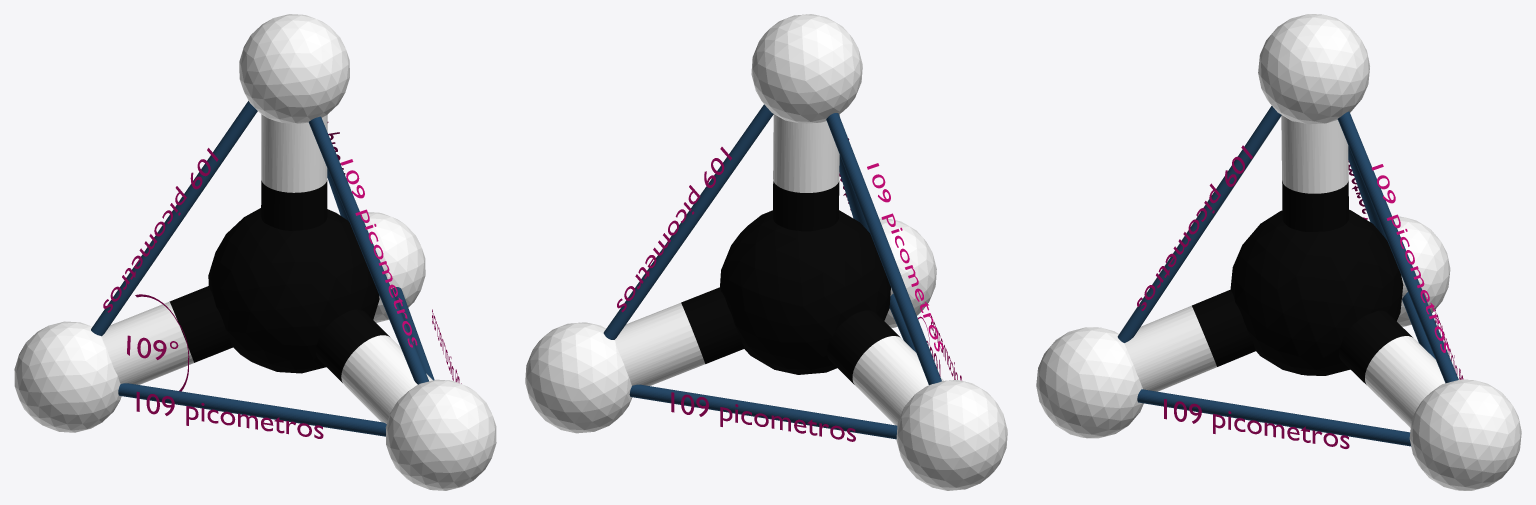
Rendered from metano.obj.
The picture shows the model from 3 angles, left to right: view 1: azimuth 30°, elevation 25°; view 2: azimuth 150°, elevation 25°; view 3: azimuth 270°, elevation 25°; orthographic projection.
Visible parts, largest first — view 1: Shape_IndexedFaceSet.002_Shape_IndexedFaceSet.323, Shape_IndexedFaceSet.012_Shape_IndexedFaceSet.324, Cylinder.003_Cylinder.108, Cylinder.005_Cylinder.110, Cylinder.002_Cylinder.107, Text_109_pM, Text.003_109_pM.003, Text.005_109_pM.005, Cylinder_Cylinder.105; view 2: Shape_IndexedFaceSet.002_Shape_IndexedFaceSet.323, Shape_IndexedFaceSet.012_Shape_IndexedFaceSet.324, Cylinder.002_Cylinder.107, Cylinder.001_Cylinder.106, Cylinder.004_Cylinder.109, Text.002_109_pM.002, Text.004_109_pM.004, Text.003_109_pM.003, Cylinder.003_Cylinder.108; view 3: Shape_IndexedFaceSet.002_Shape_IndexedFaceSet.323, Shape_IndexedFaceSet.012_Shape_IndexedFaceSet.324, Cylinder.001_Cylinder.106, Cylinder_Cylinder.105, Cylinder.003_Cylinder.108, Text.001_109_pM.001, Text.005_109_pM.005, Text.004_109_pM.004, Cylinder.002_Cylinder.107, Cylinder.004_Cylinder.109.
Part boxes in pixels (x1=…): Shape_IndexedFaceSet.002_Shape_IndexedFaceSet.323: x1=14, y1=14, x2=496, y2=490; Shape_IndexedFaceSet.012_Shape_IndexedFaceSet.324: x1=169, y1=180, x2=389, y2=382; Cylinder.003_Cylinder.108: x1=308, y1=116, x2=428, y2=384; Cylinder.005_Cylinder.110: x1=118, y1=383, x2=386, y2=436; Cylinder.002_Cylinder.107: x1=91, y1=101, x2=257, y2=336; Text_109_pM: x1=136, y1=391, x2=323, y2=438; Text.003_109_pM.003: x1=103, y1=148, x2=218, y2=312; Text.005_109_pM.005: x1=341, y1=159, x2=417, y2=347; Cylinder_Cylinder.105: x1=392, y1=287, x2=434, y2=380; Shape_IndexedFaceSet.002_Shape_IndexedFaceSet.323: x1=525, y1=14, x2=1007, y2=490; Shape_IndexedFaceSet.012_Shape_IndexedFaceSet.324: x1=681, y1=181, x2=900, y2=384; Cylinder.002_Cylinder.107: x1=826, y1=113, x2=941, y2=384; Cylinder.001_Cylinder.106: x1=603, y1=104, x2=773, y2=339; Cylinder.004_Cylinder.109: x1=629, y1=384, x2=897, y2=439; Text.002_109_pM.002: x1=671, y1=392, x2=855, y2=441; Text.004_109_pM.004: x1=617, y1=147, x2=731, y2=312; Text.003_109_pM.003: x1=867, y1=163, x2=943, y2=351; Cylinder.003_Cylinder.108: x1=839, y1=155, x2=869, y2=232; Shape_IndexedFaceSet.002_Shape_IndexedFaceSet.323: x1=1036, y1=14, x2=1521, y2=490; Shape_IndexedFaceSet.012_Shape_IndexedFaceSet.324: x1=1192, y1=181, x2=1412, y2=384; Cylinder.001_Cylinder.106: x1=1337, y1=111, x2=1458, y2=383; Cylinder_Cylinder.105: x1=1137, y1=389, x2=1411, y2=446; Cylinder.003_Cylinder.108: x1=1117, y1=106, x2=1281, y2=342; Text.001_109_pM.001: x1=1164, y1=399, x2=1349, y2=448; Text.005_109_pM.005: x1=1137, y1=145, x2=1252, y2=310; Text.004_109_pM.004: x1=1371, y1=164, x2=1449, y2=352; Cylinder.002_Cylinder.107: x1=1348, y1=146, x2=1386, y2=239; Cylinder.004_Cylinder.109: x1=1402, y1=292, x2=1435, y2=358.
Bounding box in the file's own units: 15.52 × 13.55 × 15.01.
